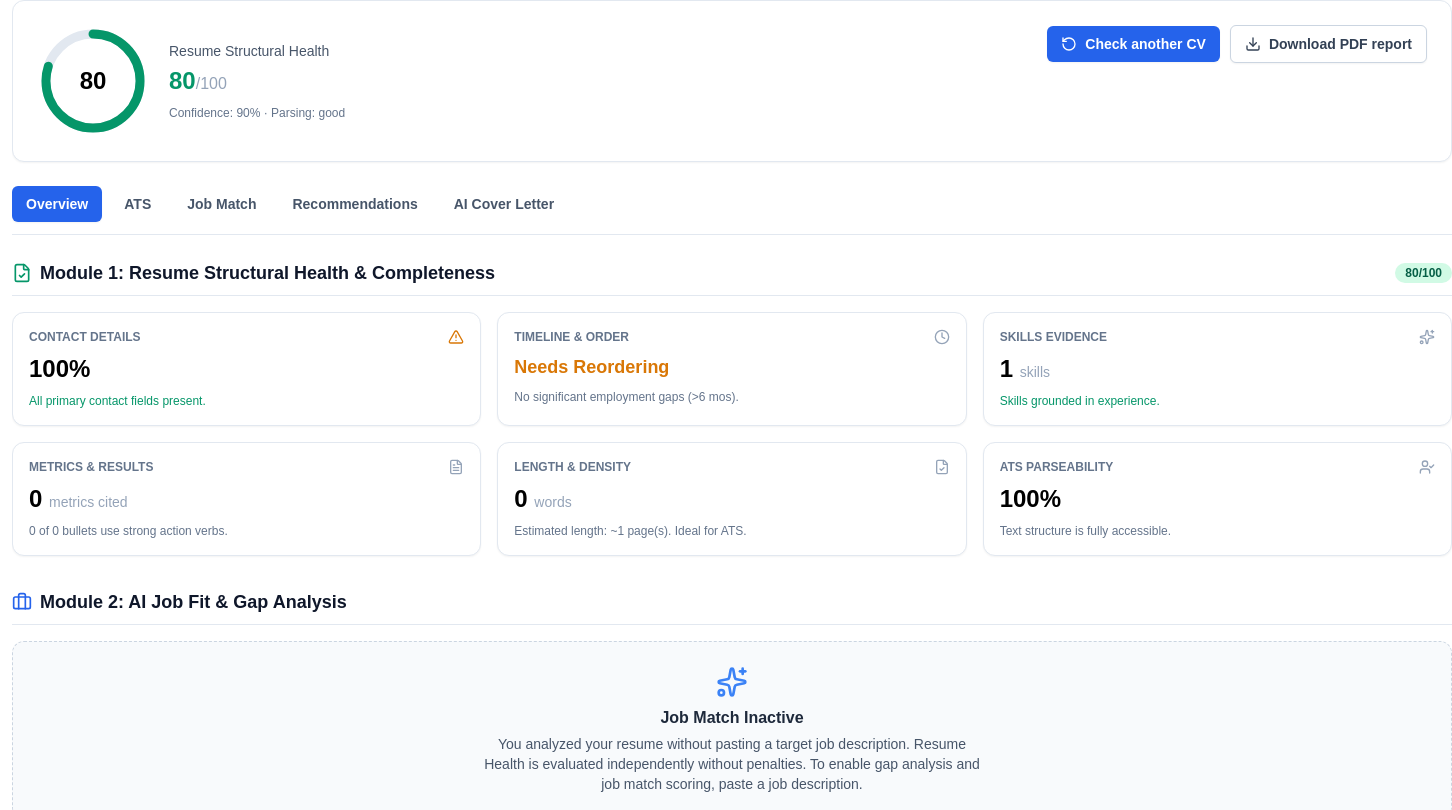
it: results dashboard › hides job-specific cards in resume-only mode and uses resume health weights
Step 1. Click the tab "ATS" → (138, 204), box [110,186,165,222]
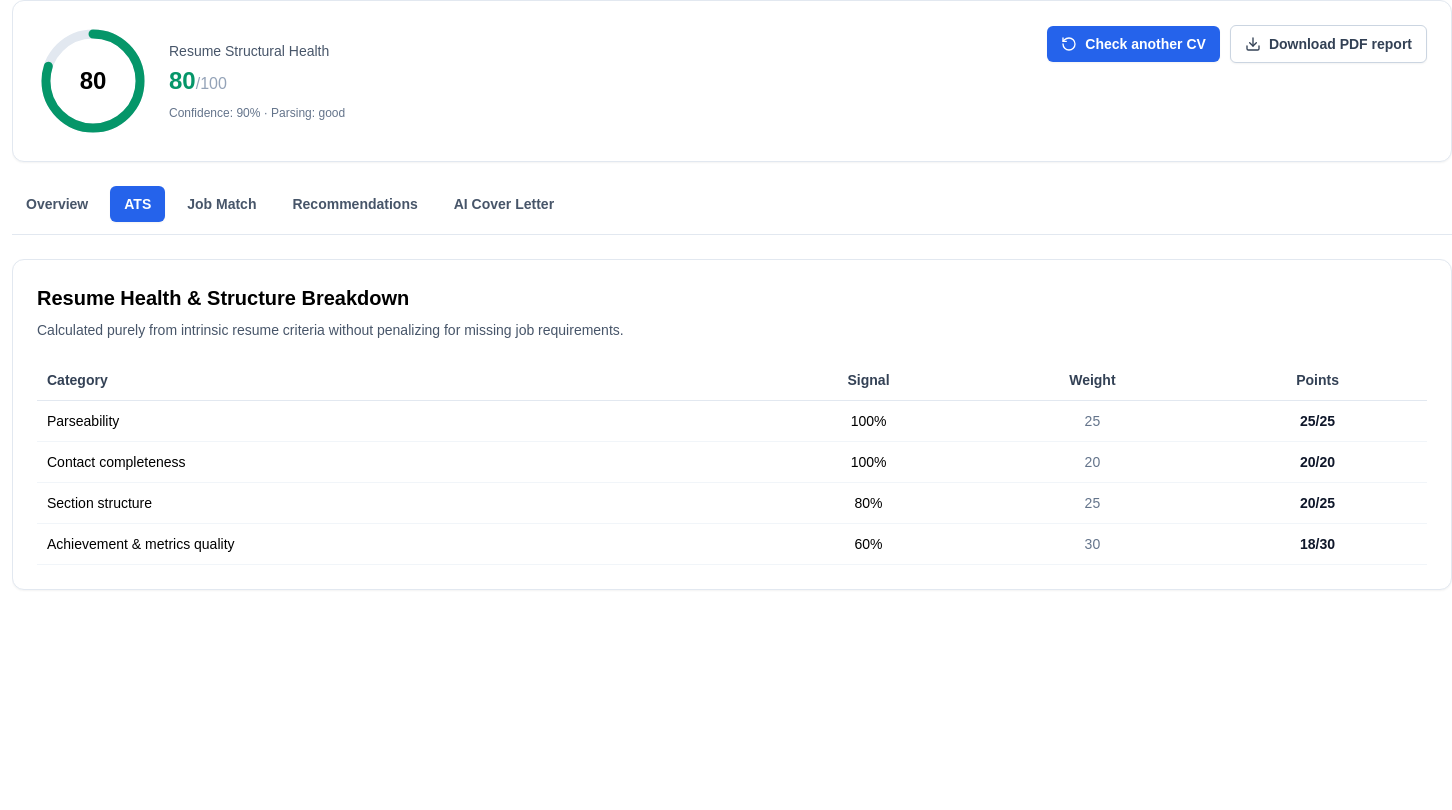
Expected: the heading "Resume Health & Structure Breakdown" is shown, [37,287,409,309]
